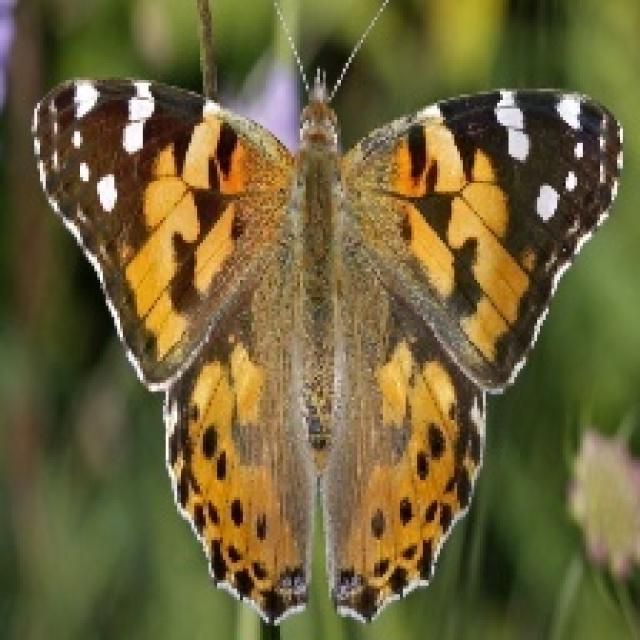butterfly: (28, 0, 623, 626)
